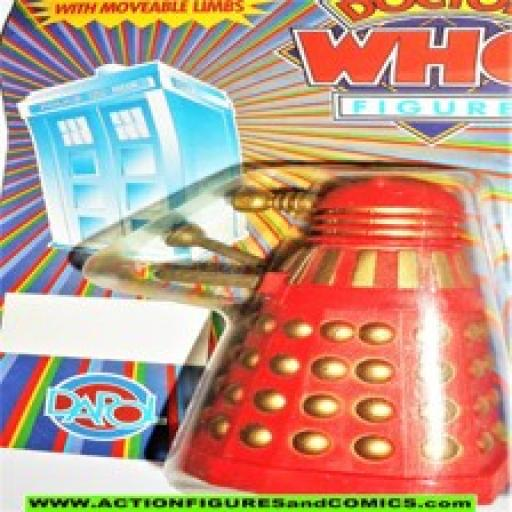dalek: (75, 153, 512, 508)
